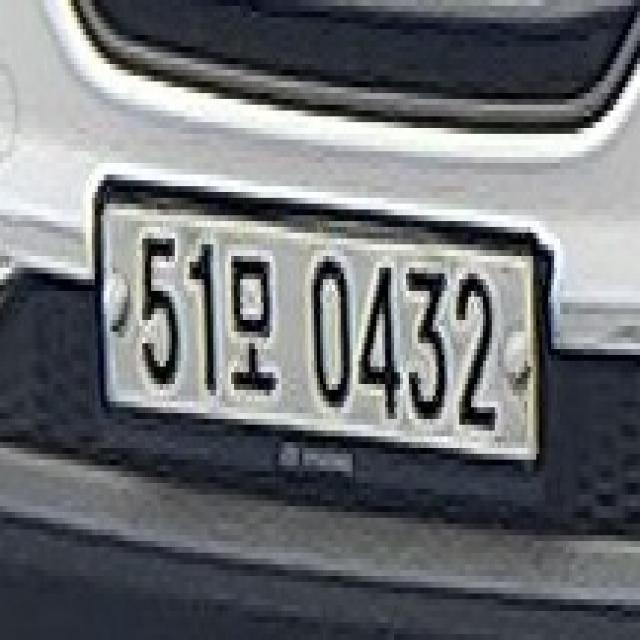0: (303, 244, 355, 416)
1: (186, 228, 224, 402)
2: (453, 269, 499, 437)
3: (406, 262, 452, 420)
4: (360, 248, 402, 426)
5: (134, 226, 183, 390)
license_plate: (82, 167, 570, 506)
mo: (228, 238, 280, 408)
